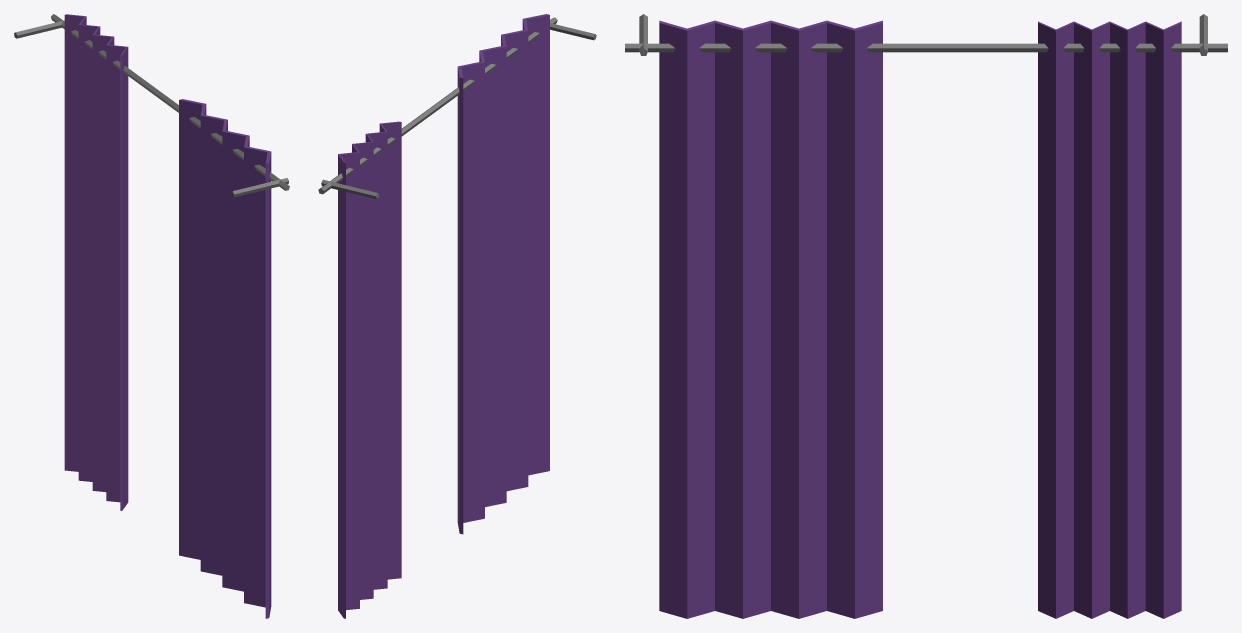
Rendered from curtainPURPLE.fbx.
3 renders of one model, left to right at view 1: azimuth 30°, elevation 25°; view 2: azimuth 150°, elevation 25°; view 3: azimuth 270°, elevation 25°, orthographic. The views are drawn at different scales.
Visible parts, largest first — view 1: Plane; view 2: Plane; view 3: Plane.
Part boxes in pixels (x1,y1,x2,y2): Plane: (14, 14, 289, 618); Plane: (318, 14, 596, 618); Plane: (625, 14, 1227, 618).
Bounding box in the file's own units: 39.81 × 313 × 291.
